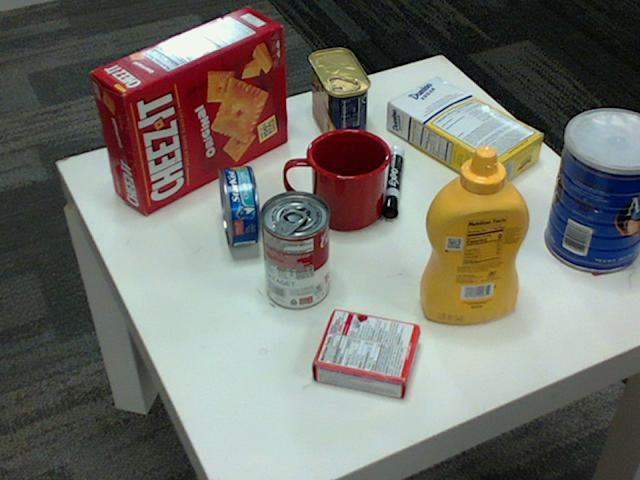cracker_box: (90, 4, 287, 212)
gelatin_box: (310, 309, 418, 401)
large_marker: (381, 148, 404, 218)
master_chef_can: (545, 108, 639, 273)
mug: (285, 126, 391, 229)
mustard_bottle: (419, 146, 529, 323)
potted_meat_can: (306, 48, 369, 148)
sugar_box: (387, 76, 546, 191)
tomato_soup_can: (260, 191, 330, 309)
tuna_fish_can: (218, 165, 260, 247)
